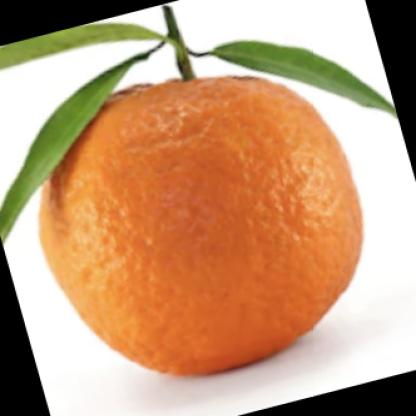fresh: (52, 77, 366, 380)
